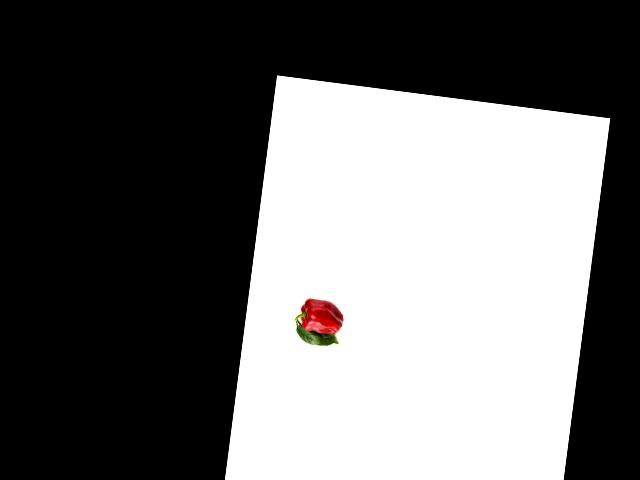bell_pepper: (294, 292, 347, 338)
